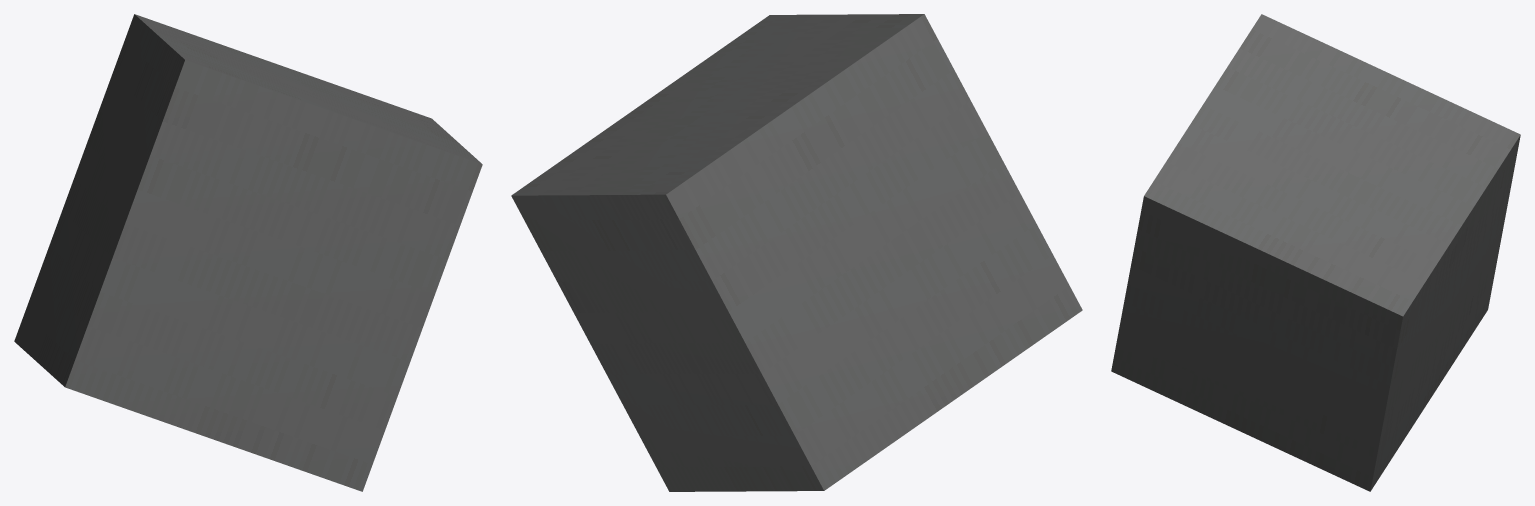
File: prop_paper_ball-1.glb
The picture shows the model from 3 angles, left to right: view 1: azimuth 30°, elevation 25°; view 2: azimuth 150°, elevation 25°; view 3: azimuth 270°, elevation 25°; orthographic projection. The views are drawn at different scales.
Parts seen in each view (by area): view 1: prop_paper_ball-1; view 2: prop_paper_ball-1; view 3: prop_paper_ball-1.
Part boxes in pixels (bbox=[...]): prop_paper_ball-1: bbox=[14, 14, 482, 491]; prop_paper_ball-1: bbox=[511, 14, 1082, 491]; prop_paper_ball-1: bbox=[1111, 14, 1520, 491].
Bounding box in the file's own units: 0.0934 × 0.091 × 0.0844.
Materials: 1 (1 with a texture image).
